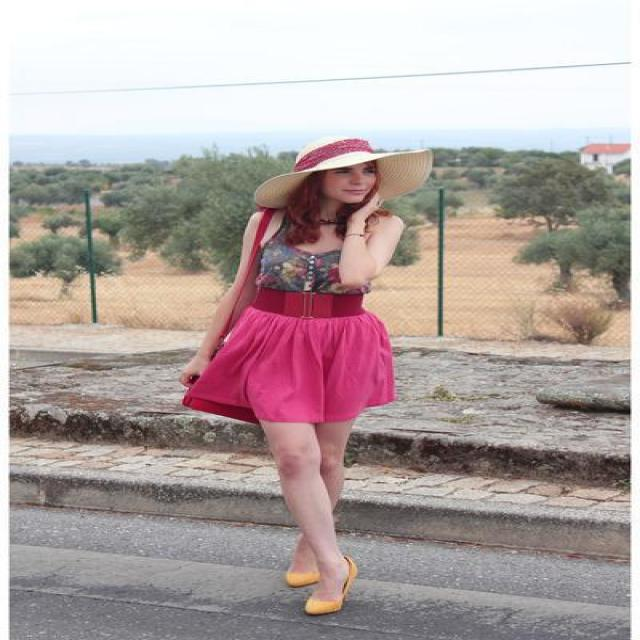hat: (245, 129, 437, 207)
shirt: (245, 244, 347, 294)
shoe: (286, 556, 346, 611)
skirt: (182, 307, 397, 426)
